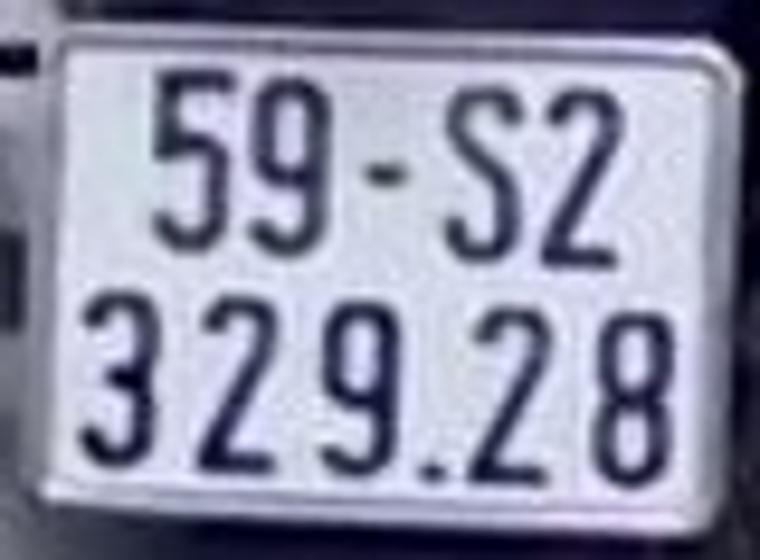-: (366, 161, 413, 190)
.: (422, 466, 449, 484)
2: (199, 289, 277, 471), (546, 84, 622, 270), (474, 307, 549, 484)
3: (79, 287, 161, 470)
5: (148, 69, 229, 254)
8: (594, 319, 672, 489)
9: (248, 75, 329, 255), (319, 300, 397, 479)
S: (442, 87, 517, 263)
